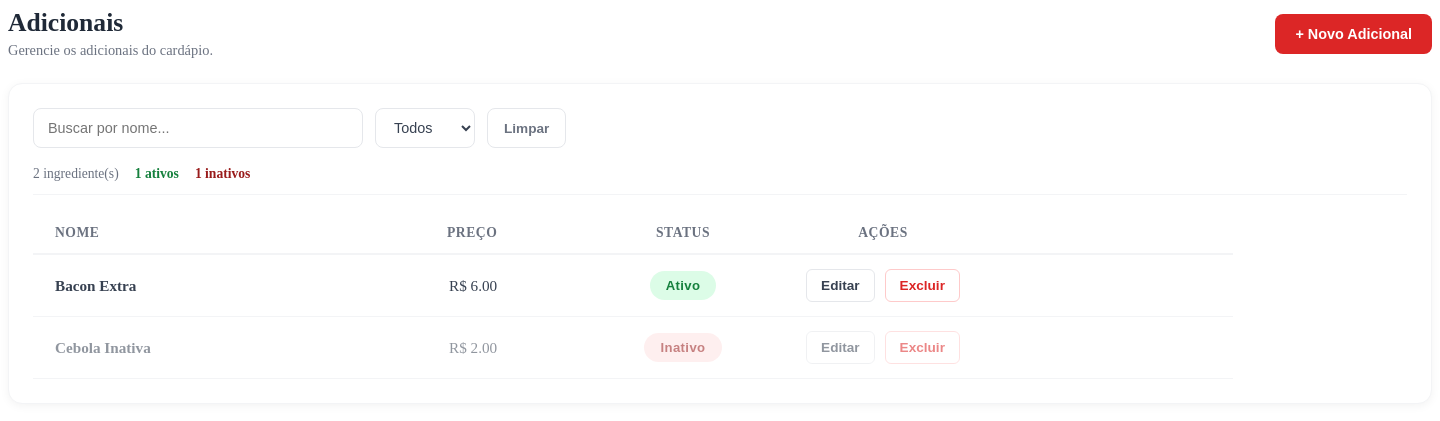
AdminIngredientes › filtra por nome e por status
The width and height of the screenshot is (1440, 421).
Check: the text "Bacon Extra" is shown, box [33,254,433,316]
Type "cebola" into the field with placeholder "Buscar por nome..." at (198, 128), box [33,108,363,148]
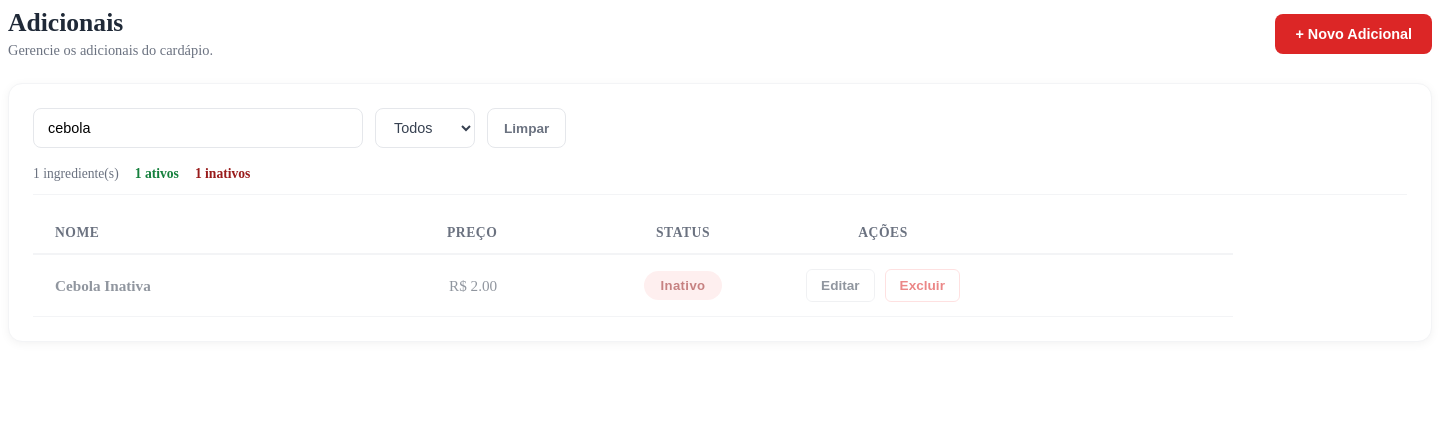
Check: the text "Cebola Inativa" is shown, box [33,254,433,316]
Check: the text "Bacon Extra" is gone
